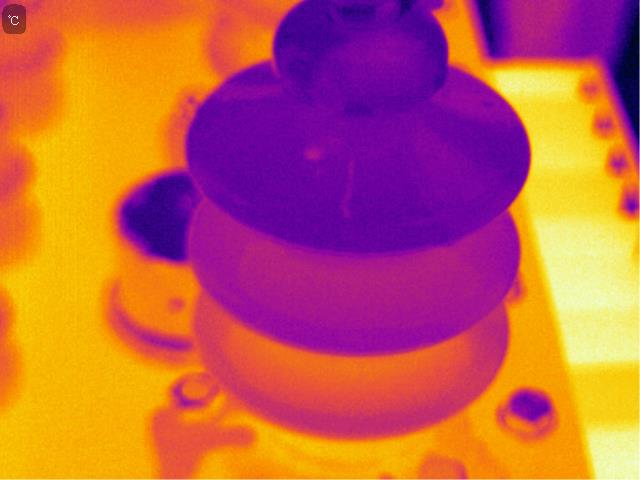Oil: (401, 122, 511, 232), (310, 23, 437, 107), (206, 46, 287, 105), (295, 130, 338, 175), (339, 146, 356, 225)
